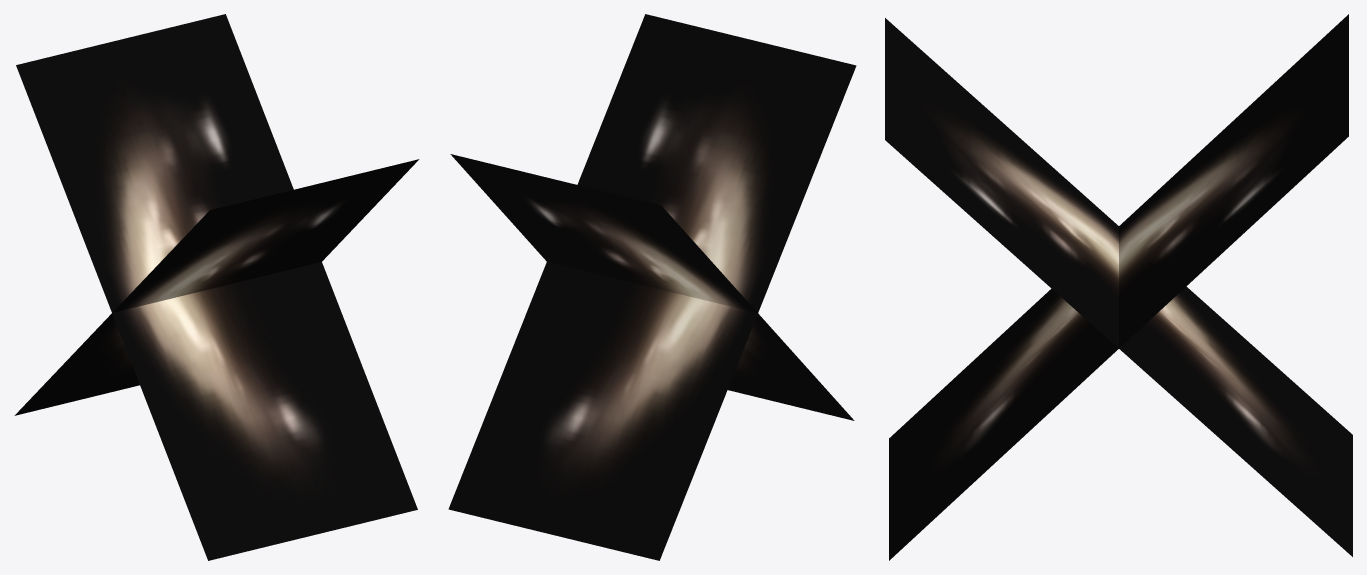
Rendered from bingdao.FBX.
3 renders of one model, left to right at view 1: azimuth 30°, elevation 25°; view 2: azimuth 150°, elevation 25°; view 3: azimuth 270°, elevation 25°, orthographic. The views are drawn at different scales.
Parts seen in each view (by area): view 1: bingdao; view 2: bingdao; view 3: bingdao.
Part boxes in pixels (x1,y1,x2,y2): bingdao: (14,14,419,560); bingdao: (448,14,856,560); bingdao: (885,14,1352,560).
Bounding box in the file's own units: 26.49 × 42.82 × 42.78.
